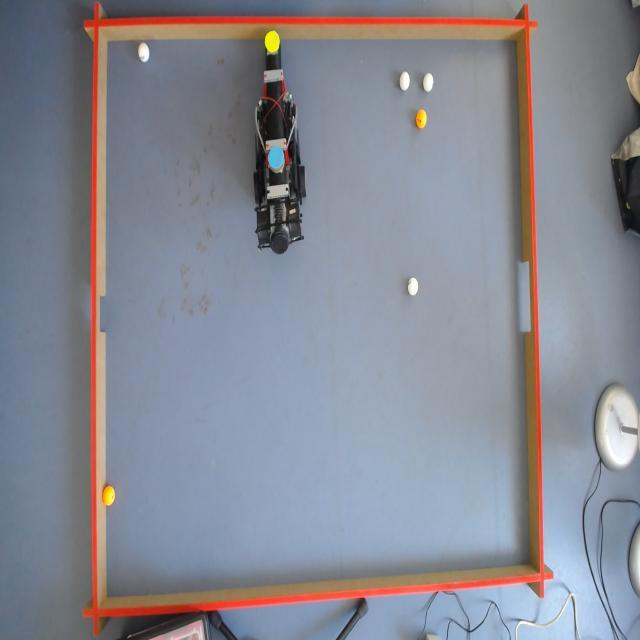orange: (102, 484, 114, 506), (415, 111, 427, 129)
robot: (254, 66, 304, 260)
robot-front: (264, 30, 280, 53)
robot-rear: (268, 146, 284, 170)
white: (408, 276, 419, 298), (138, 43, 150, 63), (422, 74, 434, 92), (400, 70, 410, 90)
